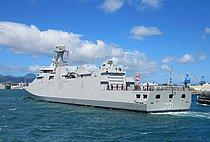MIL_Ship: (19, 45, 192, 114)
